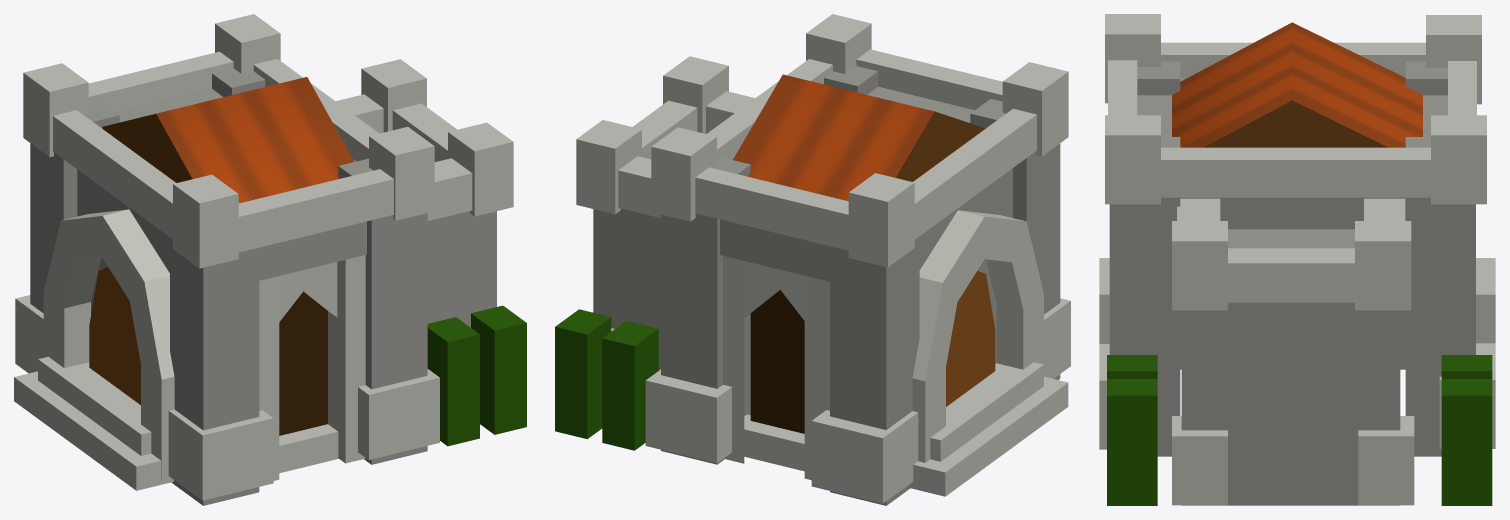
Rendered from clinic.fbx.
3 views of the same model, side by side, from view 1: azimuth 30°, elevation 25°; view 2: azimuth 150°, elevation 25°; view 3: azimuth 270°, elevation 25° (orthographic). The views are drawn at different scales.
Visible parts, largest first — view 1: polySurface515; view 2: polySurface515; view 3: polySurface515.
Boxes of the visible parts, bbox=[...] form: polySurface515: bbox=[14, 14, 526, 505]; polySurface515: bbox=[555, 14, 1070, 505]; polySurface515: bbox=[1099, 14, 1495, 505].
Bounding box in the file's own units: 105 × 85.45 × 90.62.
1 material, 1 textured.
